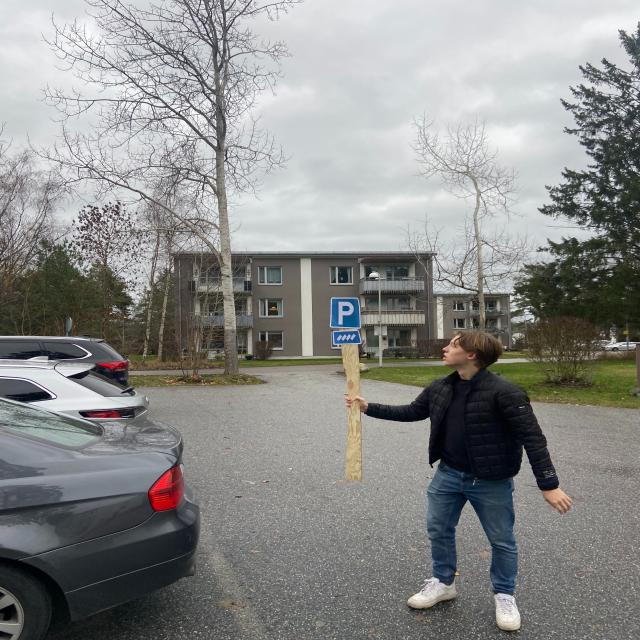psign: (329, 298, 363, 330)
